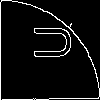U: (24, 24, 71, 60)
